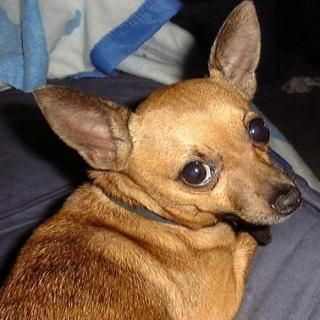dog: (23, 17, 320, 242)
nose: (270, 180, 300, 216)
